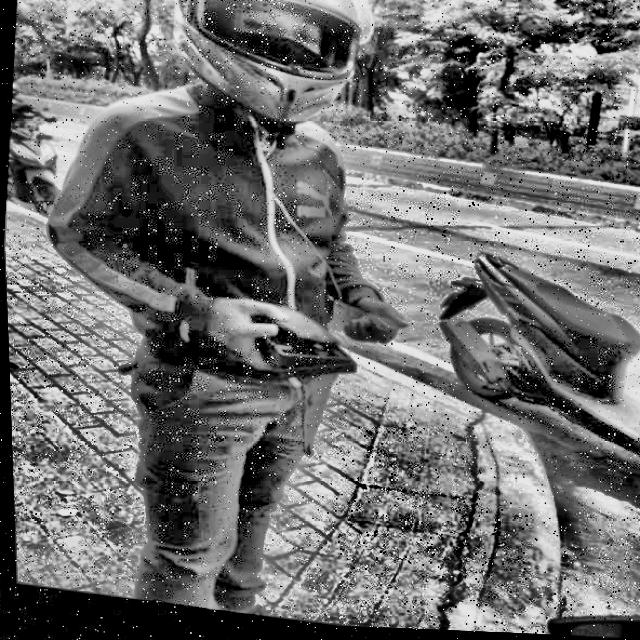Helmet: (151, 0, 396, 156)
